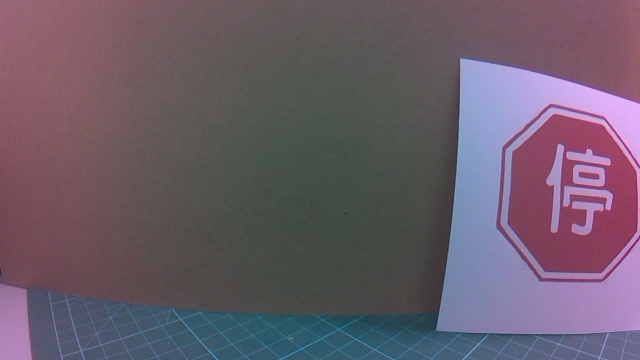stop: (456, 108, 640, 314)
